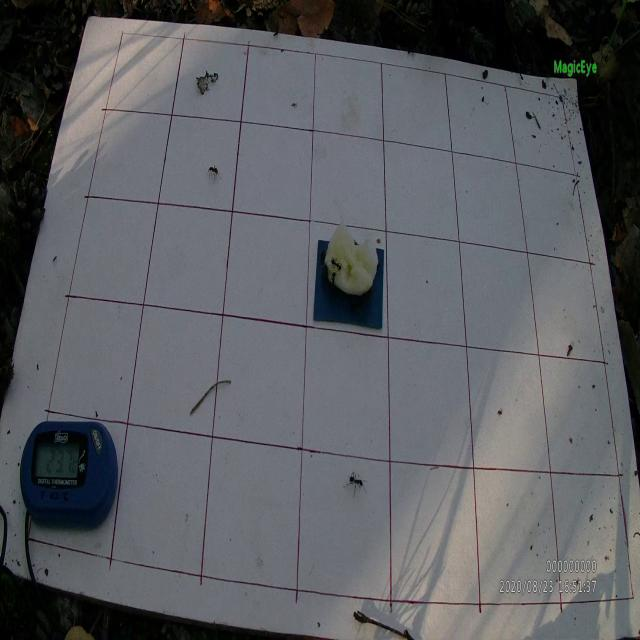Ant: (345, 472, 368, 498), (208, 164, 221, 184), (329, 256, 344, 272)
